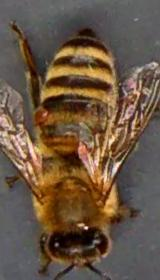varroa_mite: (28, 94, 54, 126)
